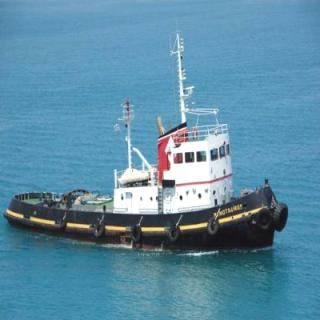Tug Boat: (0, 32, 294, 242)
